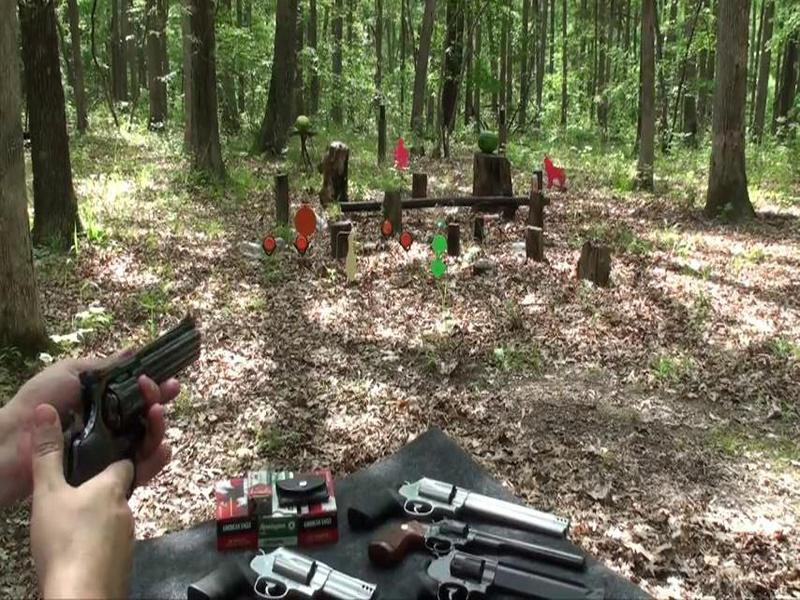Revolver: (60, 306, 237, 512)
